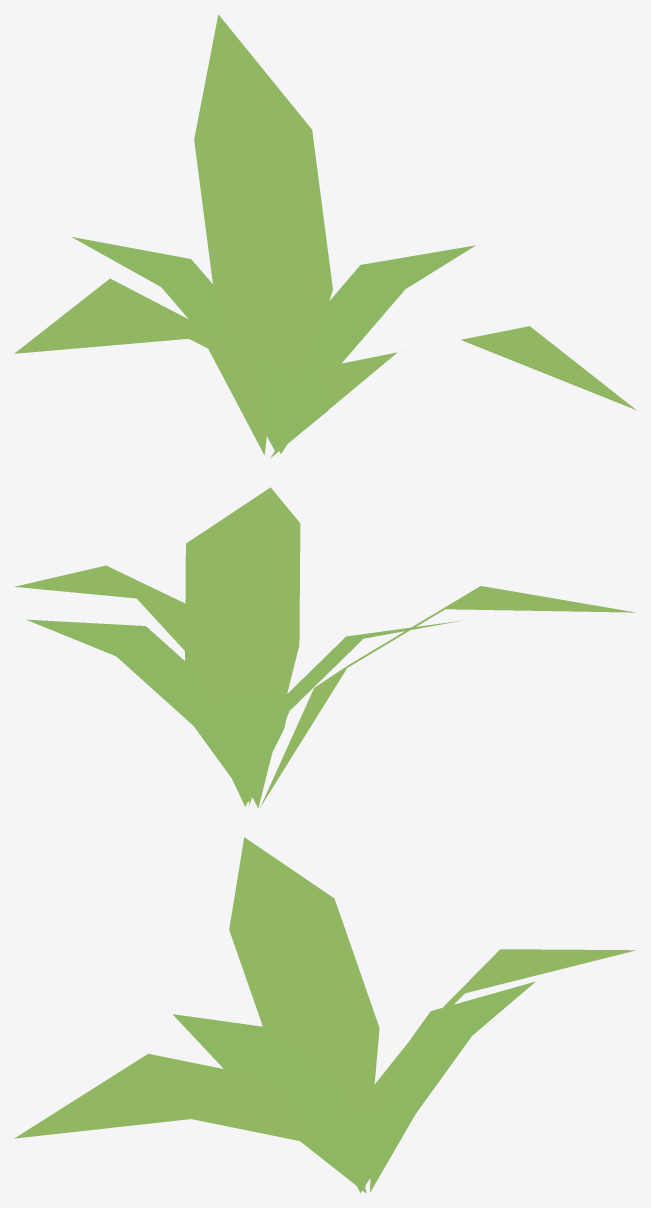
Rendered from Plant_b_OneS_06.fbx.
3 views of the same model, one above another, from view 1: azimuth 30°, elevation 25°; view 2: azimuth 150°, elevation 25°; view 3: azimuth 270°, elevation 25° (orthographic). The views are drawn at different scales.
Parts seen in each view (by area): view 1: Plant_b_OneS_06; view 2: Plant_b_OneS_06; view 3: Plant_b_OneS_06.
Part boxes in pixels (box(x1,y1,x2,y2)): Plant_b_OneS_06: box(14, 14, 635, 458); Plant_b_OneS_06: box(14, 487, 635, 807); Plant_b_OneS_06: box(14, 837, 635, 1193).
Bounding box in the file's own units: 0.727 × 0.399 × 0.7899.
